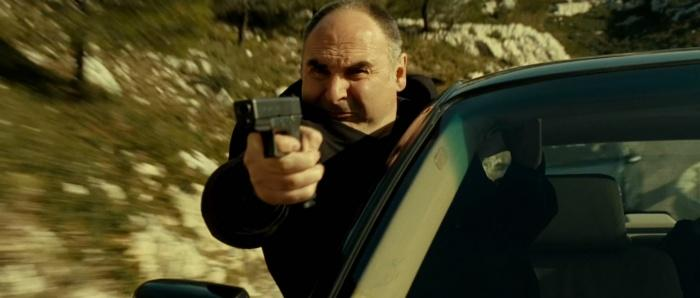Gun: (233, 94, 302, 156)
